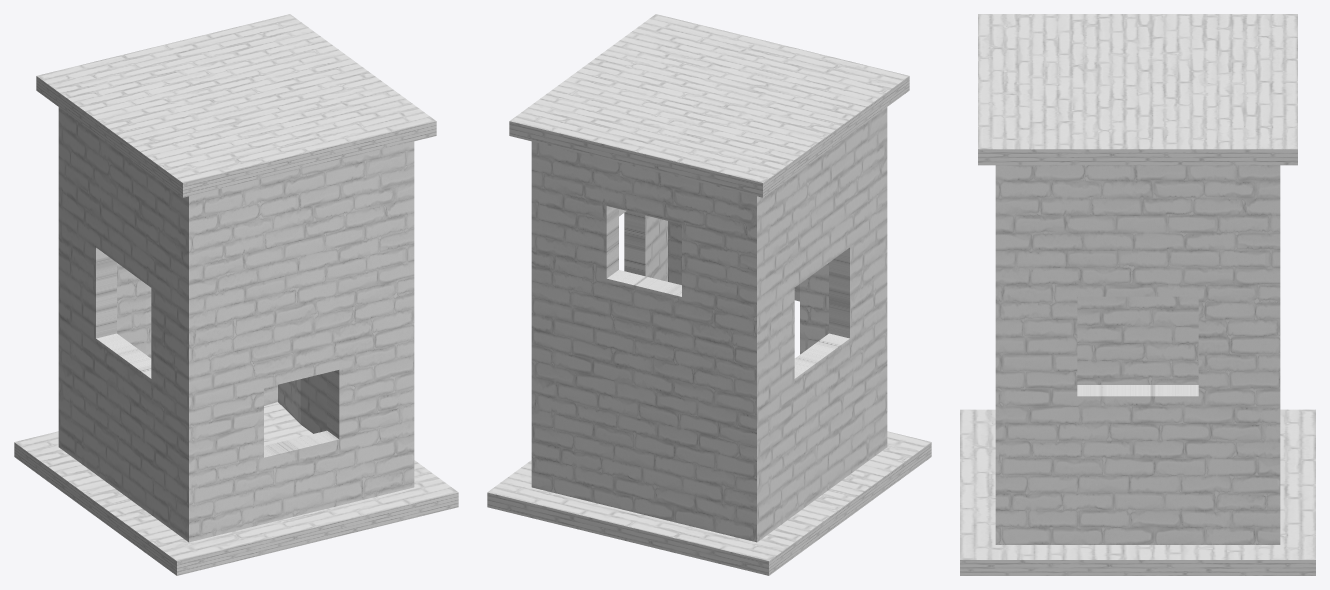
File: Casa 3-2.fbx
3 views of the same model, side by side, from view 1: azimuth 30°, elevation 25°; view 2: azimuth 150°, elevation 25°; view 3: azimuth 270°, elevation 25° (orthographic). The views are drawn at different scales.
Parts seen in each view (by area): view 1: Cubo.001, Suelo.005, Suelo.004; view 2: Cubo.001, Suelo.005, Suelo.004; view 3: Cubo.001, Suelo.005, Suelo.004.
Boxes of the visible parts, box(x1,y1,x2,y2) form: Cubo.001: box(58, 107, 414, 542); Suelo.005: box(36, 14, 436, 197); Suelo.004: box(14, 402, 458, 575); Cubo.001: box(531, 107, 887, 542); Suelo.005: box(509, 14, 909, 197); Suelo.004: box(487, 431, 931, 575); Cubo.001: box(995, 165, 1280, 544); Suelo.005: box(978, 14, 1297, 165); Suelo.004: box(960, 409, 1315, 575).
Bounding box in the file's own units: 1000 × 1300 × 1000.
